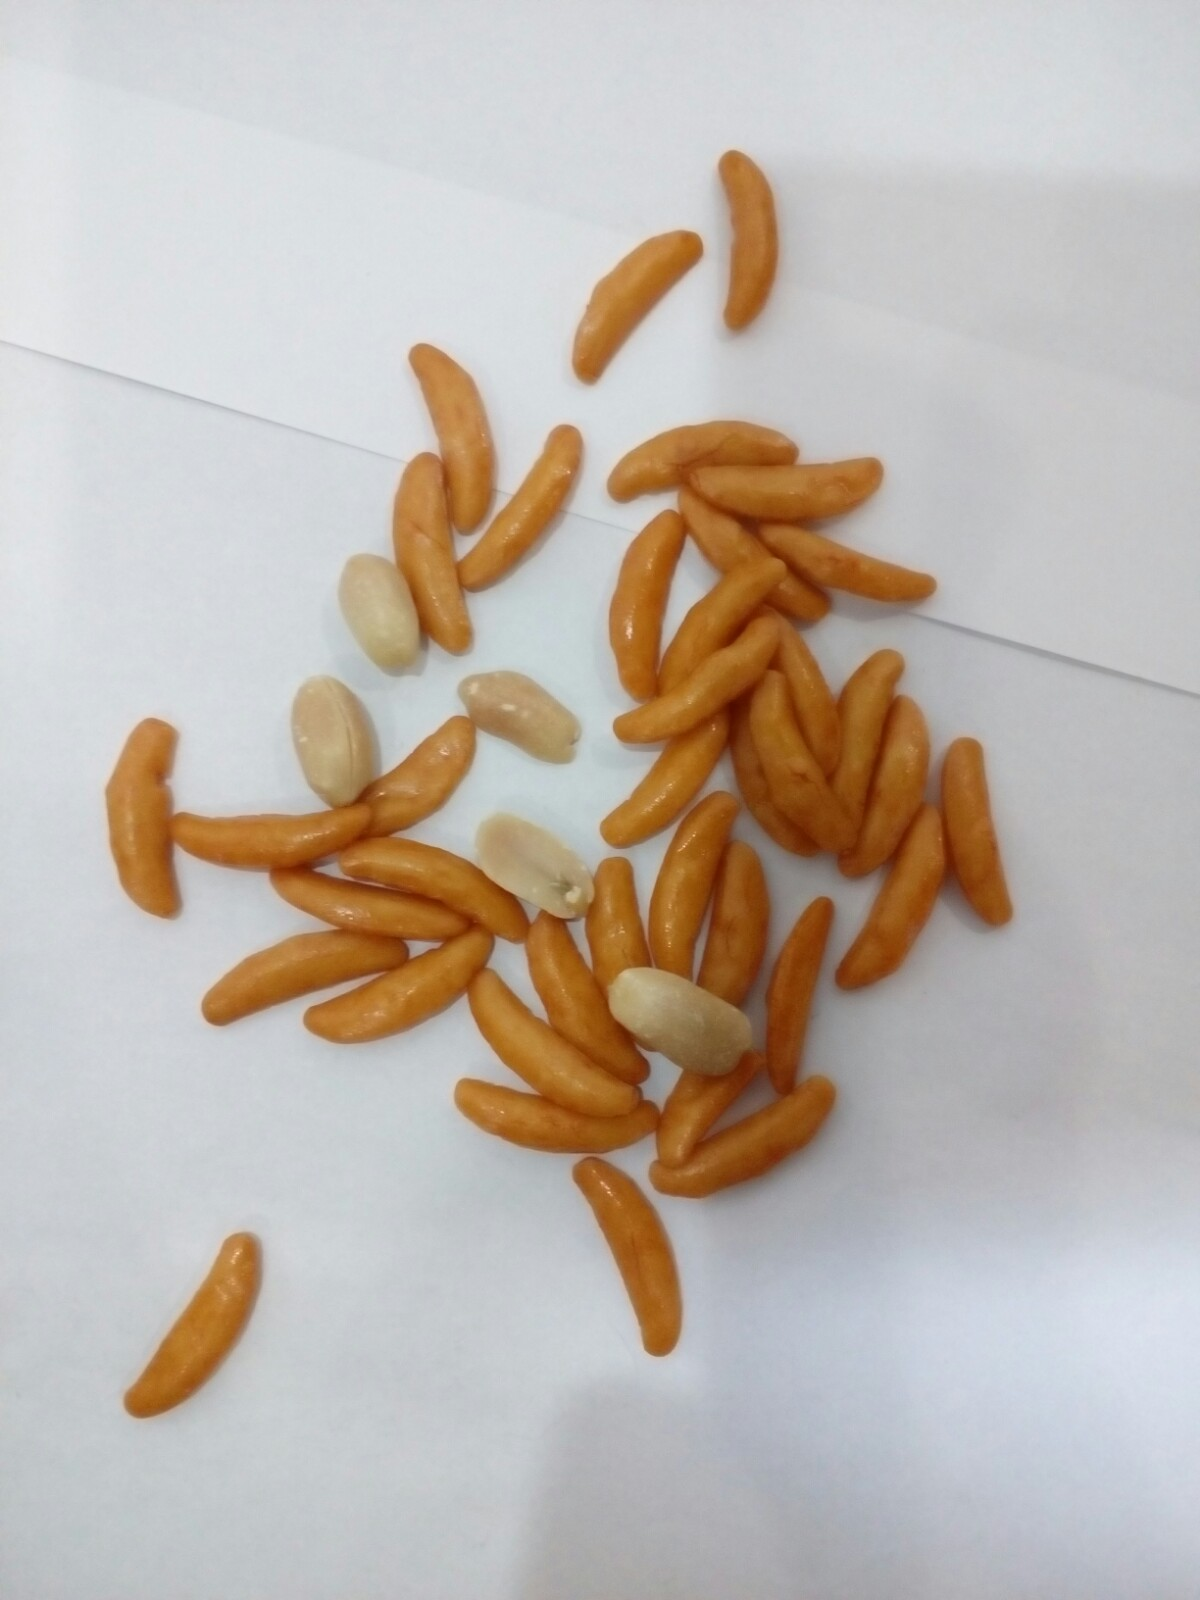peanut: (596, 952, 758, 1072), (442, 655, 592, 770), (332, 538, 437, 680), (286, 661, 389, 804), (479, 813, 601, 921)
